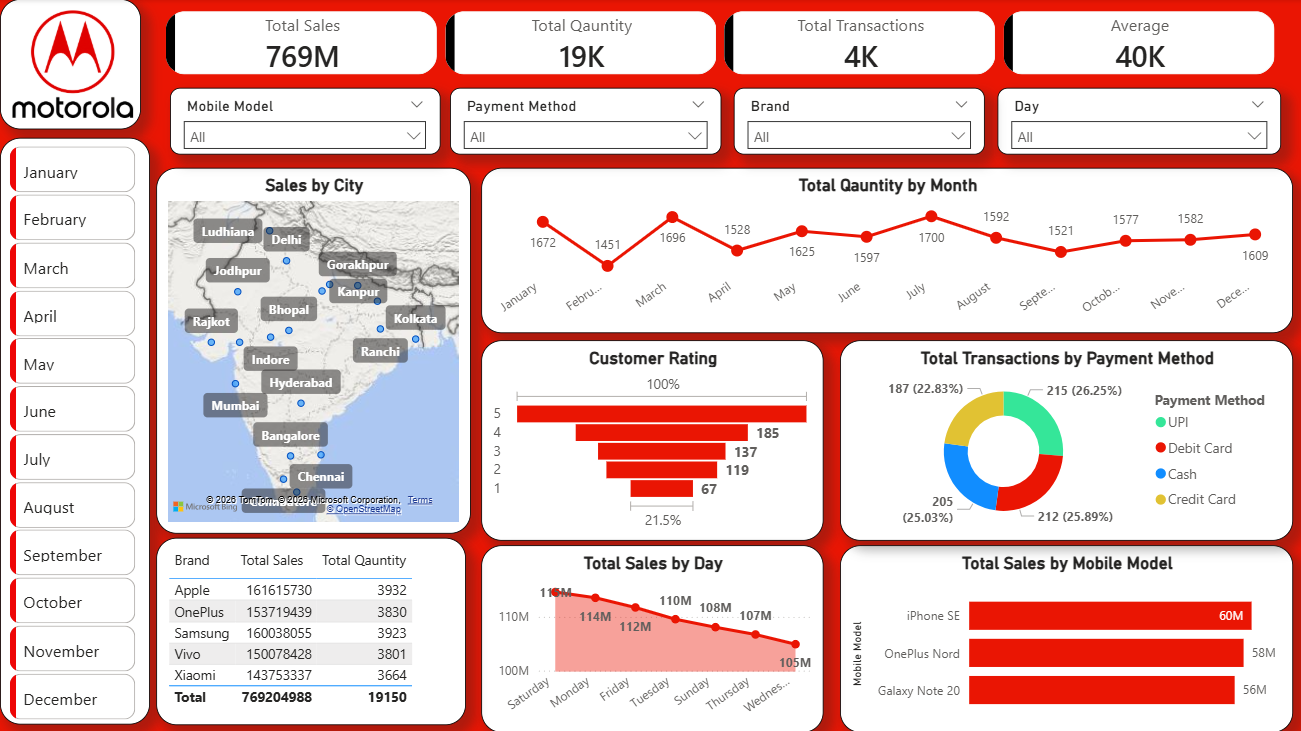

What the dashboard file says about the page in this screenshot:
{"tool":"powerbi","page":{"name":"Page 1","canvas":[1280,720],"ordinal":0},"visuals":[{"type":"shape","box":[0,0,138.6,127.6],"z":0},{"type":"image","box":[12.3,0,118,127.6],"z":1000},{"type":"shape","box":[0,135.8,146.8,576.3],"z":2000},{"type":"advancedSlicerVisual","fields":{"Values":["Sales Data.Date.Variation.Date Hierarchy.Month"]},"box":[5.5,140,133.1,576.3],"z":3000},{"type":"cardVisual","fields":{"Data":["Sales Data.Total Sales","Sales Data.Total Qauntity","Sales Data.Total Transactions","Sales Data.Average"]},"box":[146.4,0,1123.2,87],"z":4000},{"type":"map","title":"Sales by City","fields":{"Category":["Sales Data.City"]},"box":[153.6,165.2,308.7,359.4],"z":5000},{"type":"lineChart","fields":{"Y":["Sales Data.Total Qauntity"],"Category":["Sales Data.Date.Variation.Date Hierarchy.Month","Sales Data.Date.Variation.Date Hierarchy.Day"]},"box":[472.5,165.2,797.1,162.3],"z":6000},{"type":"barChart","fields":{"Category":["Sales Data.Mobile Model"],"Y":["Sales Data.Total Sales"]},"box":[824.6,536.2,444.9,184.1],"z":7000},{"type":"donutChart","fields":{"Category":["Sales Data.Payment Method"],"Y":["Sales Data.Total Transactions"]},"box":[824.6,334.8,444.9,197.1],"z":8000},{"type":"funnel","title":"Customer Rating","fields":{"Category":["Sales Data.Customer Ratings"],"Y":["CountNonNull(Sales Data.Customer Ratings)"]},"box":[472.5,334.8,336.2,197.1],"z":9000},{"type":"areaChart","fields":{"Category":["Sales Data.Day"],"Y":["Sales Data.Total Sales"]},"box":[472.5,536.2,336.2,184.1],"z":10000},{"type":"tableEx","fields":{"Values":["Sales Data.Brand","Sales Data.Total Sales","Sales Data.Total Qauntity"]},"box":[153.6,529,304.3,184.1],"z":11000},{"type":"slicer","fields":{"Values":["Sales Data.Mobile Model"]},"box":[166.7,87,265.2,65.2],"z":12000},{"type":"slicer","fields":{"Values":["Sales Data.Payment Method"]},"box":[442,87,266.7,65.2],"z":13000},{"type":"slicer","fields":{"Values":["Sales Data.Day"]},"box":[979.7,87,278.3,65.2],"z":14000},{"type":"slicer","fields":{"Values":["Sales Data.Brand"]},"box":[720.3,87,246.4,65.2],"z":15000}]}

Visuals, with their boxes in screenshot pixels (x1, y1, x2, y2), scaled from the page's 1280x720 canvas onto the 1301x731 screenshot:
shape: (0, 0, 141, 130)
image: (13, 0, 132, 130)
shape: (0, 138, 149, 723)
advancedSlicerVisual - Sales Data.Date.Variation.Date Hierarchy.Month: (6, 142, 141, 727)
cardVisual - Sales Data.Total Sales x Sales Data.Total Qauntity: (149, 0, 1290, 88)
"Sales by City" map: (156, 168, 470, 533)
lineChart - Sales Data.Total Qauntity x Sales Data.Date.Variation.Date Hierarchy.Month: (480, 168, 1290, 333)
barChart - Sales Data.Mobile Model x Sales Data.Total Sales: (838, 544, 1290, 730)
donutChart - Sales Data.Payment Method x Sales Data.Total Transactions: (838, 340, 1290, 540)
"Customer Rating" funnel: (480, 340, 822, 540)
areaChart - Sales Data.Day x Sales Data.Total Sales: (480, 544, 822, 730)
tableEx - Sales Data.Brand x Sales Data.Total Sales: (156, 537, 465, 724)
slicer - Sales Data.Mobile Model: (169, 88, 439, 155)
slicer - Sales Data.Payment Method: (449, 88, 720, 155)
slicer - Sales Data.Day: (996, 88, 1279, 155)
slicer - Sales Data.Brand: (732, 88, 983, 155)
